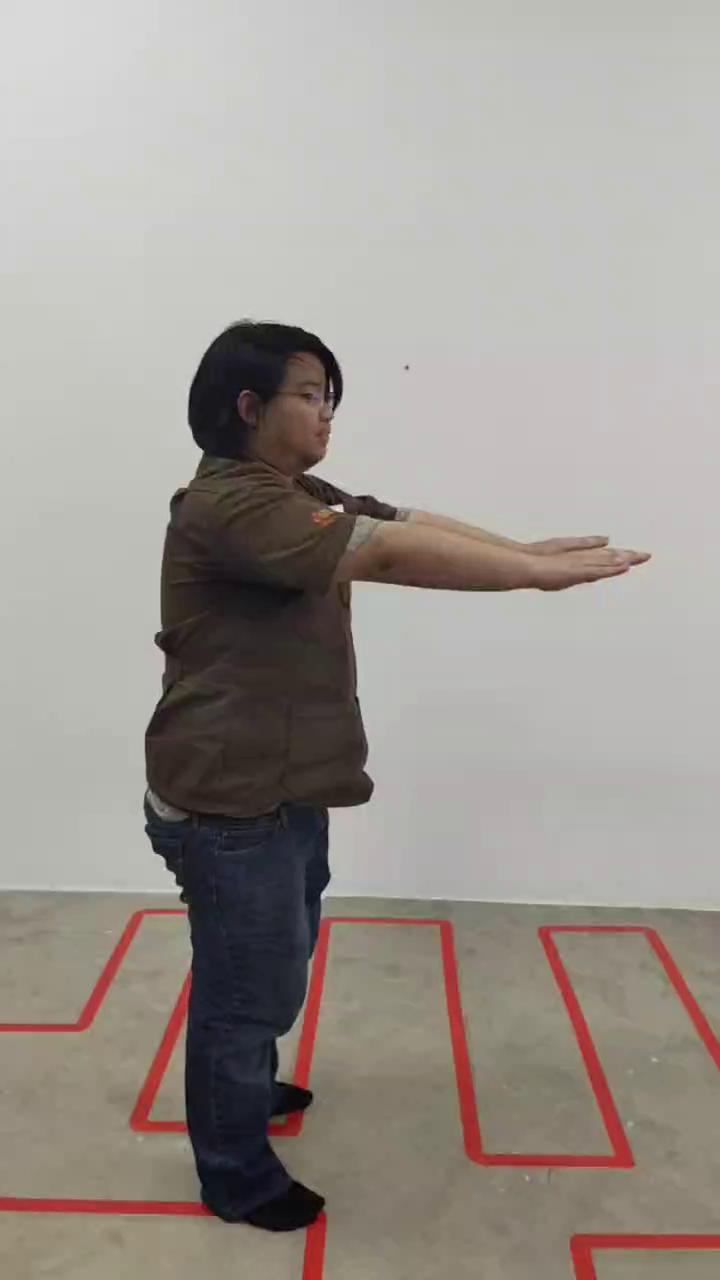squat up: (143, 320, 641, 1237)
